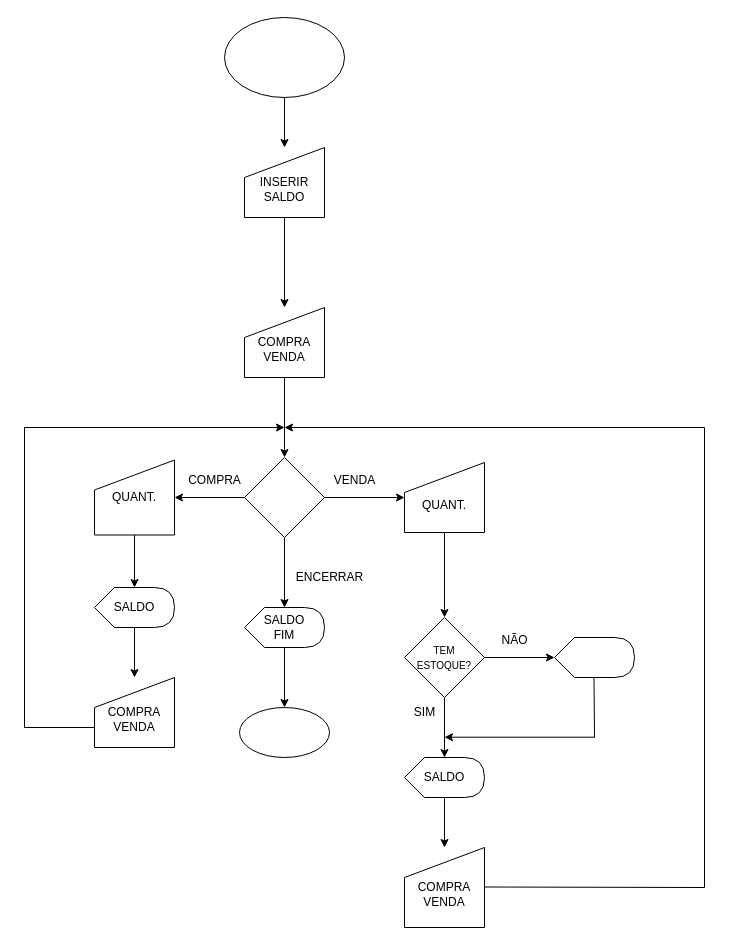
The diagram is 730 pixels wide and 945 high, and some of its shapes have lost their labels. Each missing label, with the box of its shape:
ENTRADA: (244, 456, 324, 538)
FIM: (238, 706, 330, 758)
INICIO: (224, 16, 344, 98)
SALDO INSUFICIENTE: (554, 636, 634, 678)
